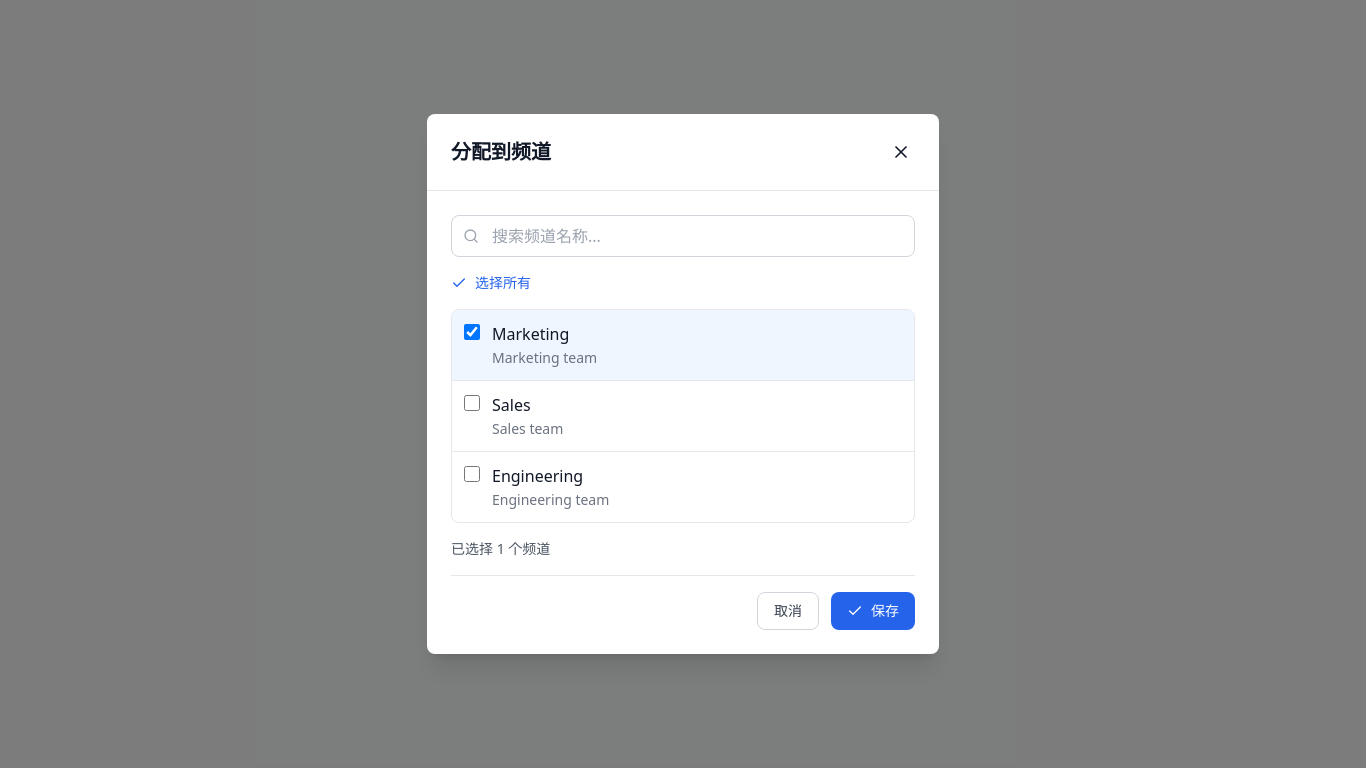
Scenario: ChannelAssignModal › Channel Selection › 「选择所有」で全チャンネルを選択できる
The width and height of the screenshot is (1366, 768).
Click the button "选择所有": (491, 283) x1=451 y1=273 x2=531 y2=293
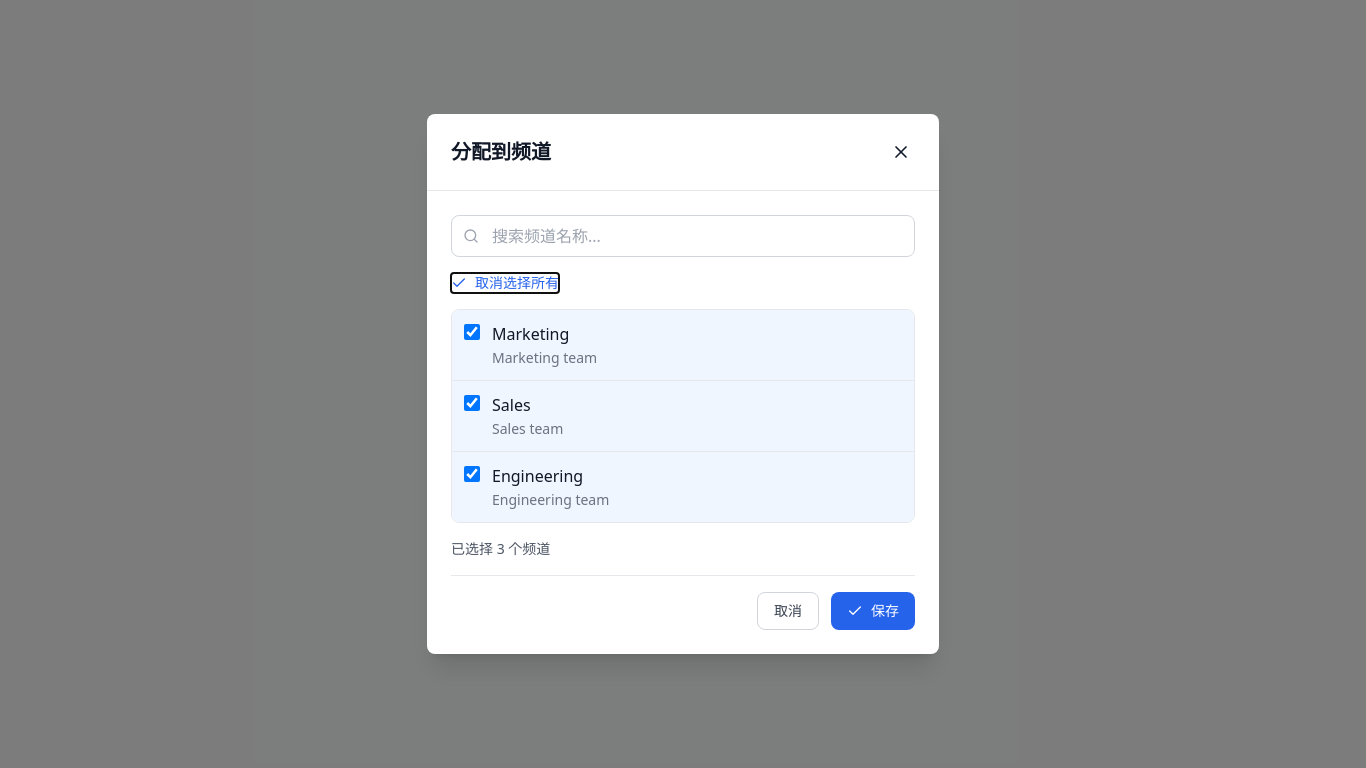
Expected: the checkbox labelled "Marketing Marketing team" is checked, x1=464 y1=324 x2=480 y2=340
Expected: the checkbox labelled "Sales Sales team" is checked, x1=464 y1=395 x2=480 y2=411
Expected: the checkbox labelled "Engineering Engineering team" is checked, x1=464 y1=466 x2=480 y2=482
